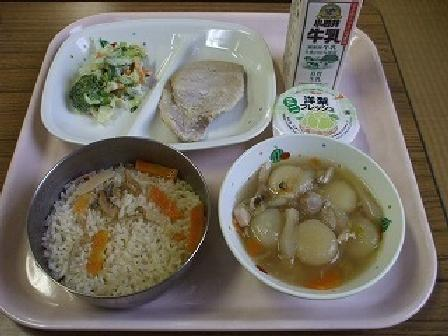Cup desserts: (267, 83, 360, 147)
Meat: (155, 45, 257, 147)
Milk: (278, 0, 365, 83)
Mixed rice: (20, 137, 209, 301)
Salad: (55, 32, 150, 119)
vegetable soup: (223, 140, 396, 294)
